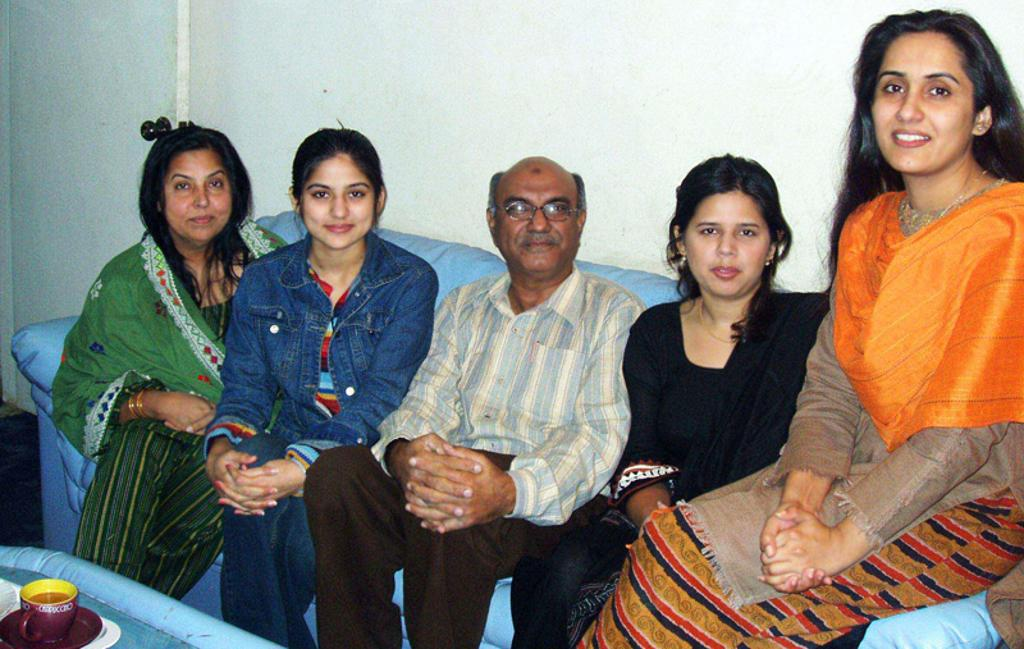face: (874, 36, 976, 170), (688, 194, 770, 300), (494, 172, 580, 272), (306, 156, 378, 248), (162, 150, 232, 240)
